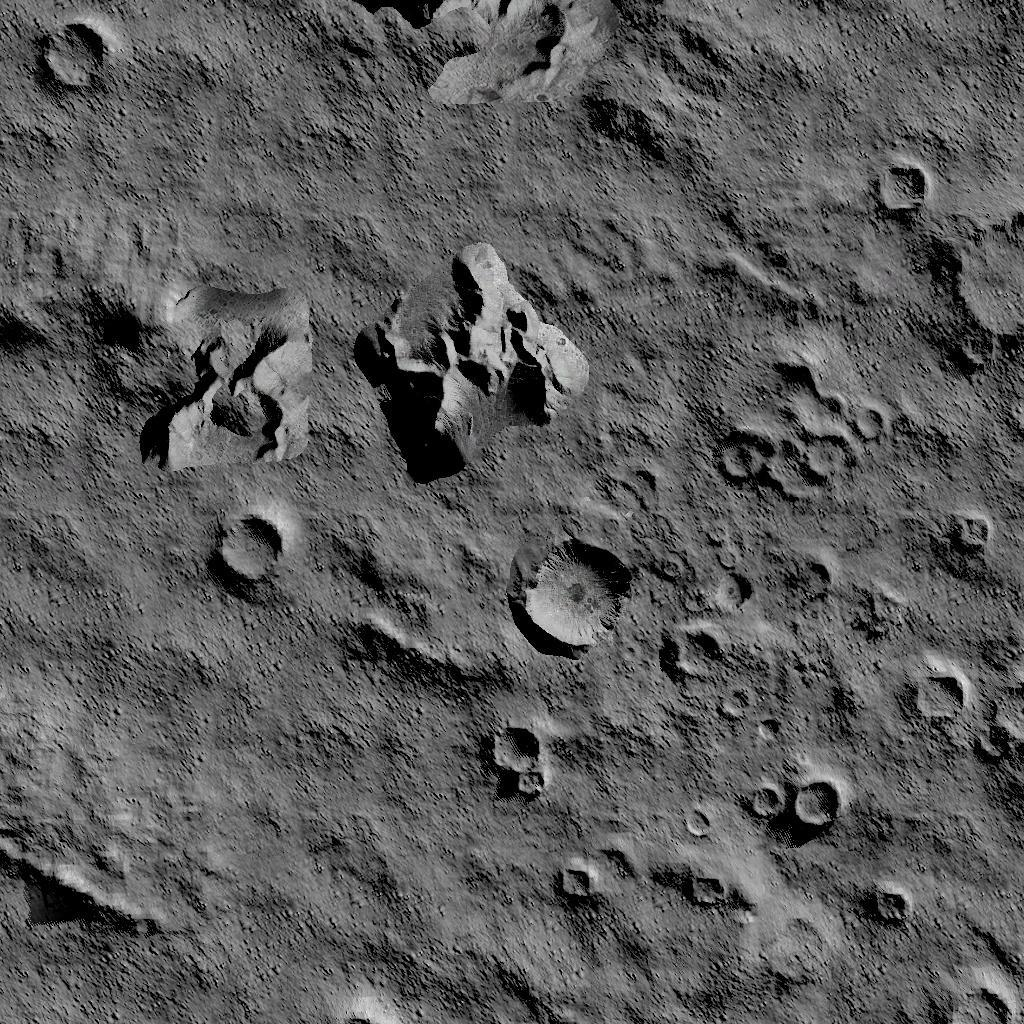Boulders: (351, 242, 588, 481), (133, 265, 309, 460), (384, 0, 607, 108)
Crater: (712, 347, 880, 489), (520, 536, 638, 649), (947, 196, 1024, 345), (212, 506, 290, 584), (27, 16, 109, 86), (742, 768, 840, 817), (486, 720, 551, 793), (932, 967, 1015, 1024), (974, 670, 1024, 754), (874, 153, 936, 211), (908, 667, 966, 721), (664, 623, 725, 673), (323, 984, 397, 1024), (946, 507, 998, 553), (711, 564, 757, 606), (552, 848, 596, 890), (866, 880, 910, 918), (685, 864, 730, 898), (680, 792, 712, 828), (725, 682, 751, 714)
Plan surface: (211, 652, 479, 954), (0, 464, 197, 783), (121, 0, 373, 192)
